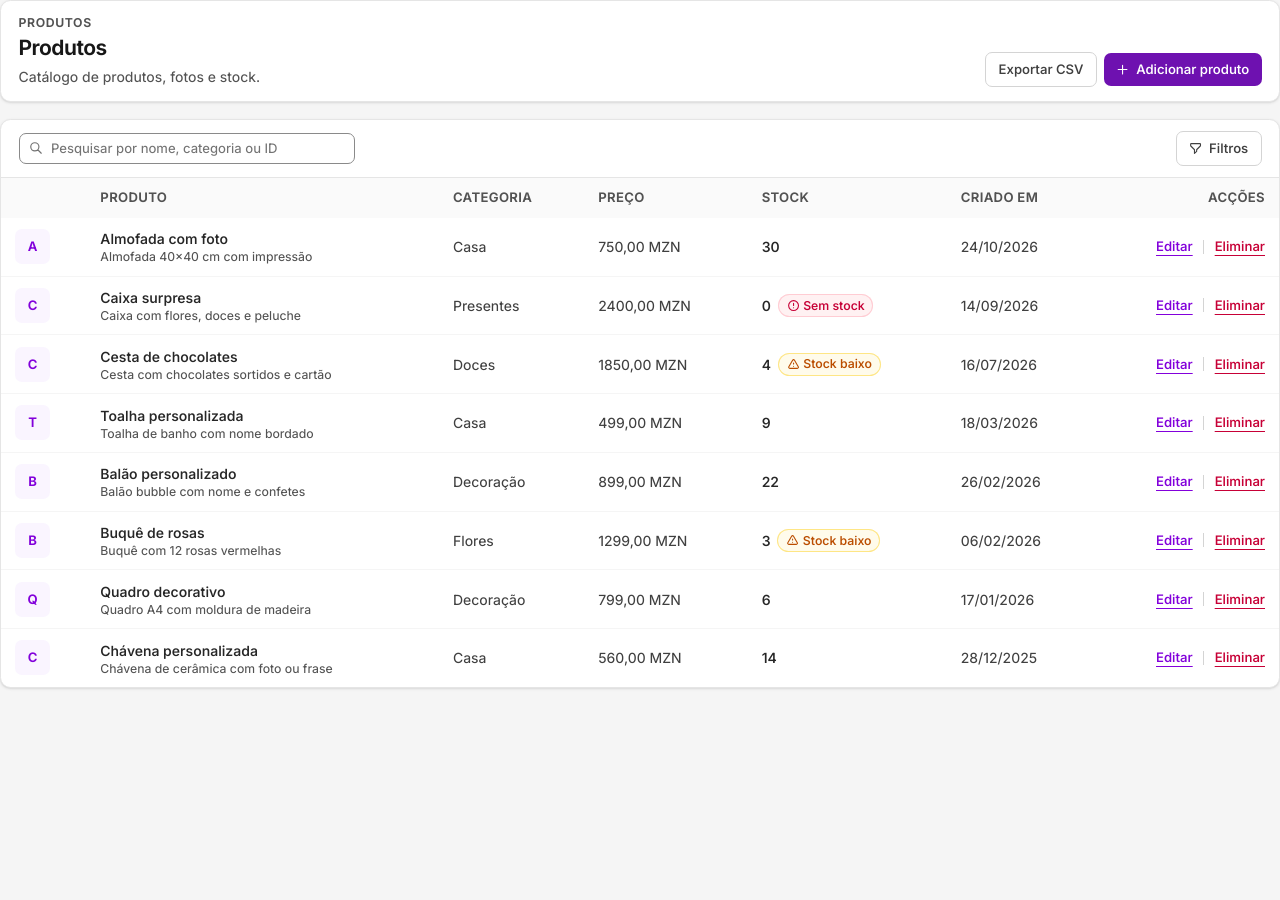
it: produtos › a pré-visualização acompanha o que se escreve
Expected: the text "Chávena personalizada" is shown, x1=100 y1=642 x2=258 y2=658
Click the button "Adicionar produto".
click(1183, 69)  # box x1=1104 y1=52 x2=1262 y2=86
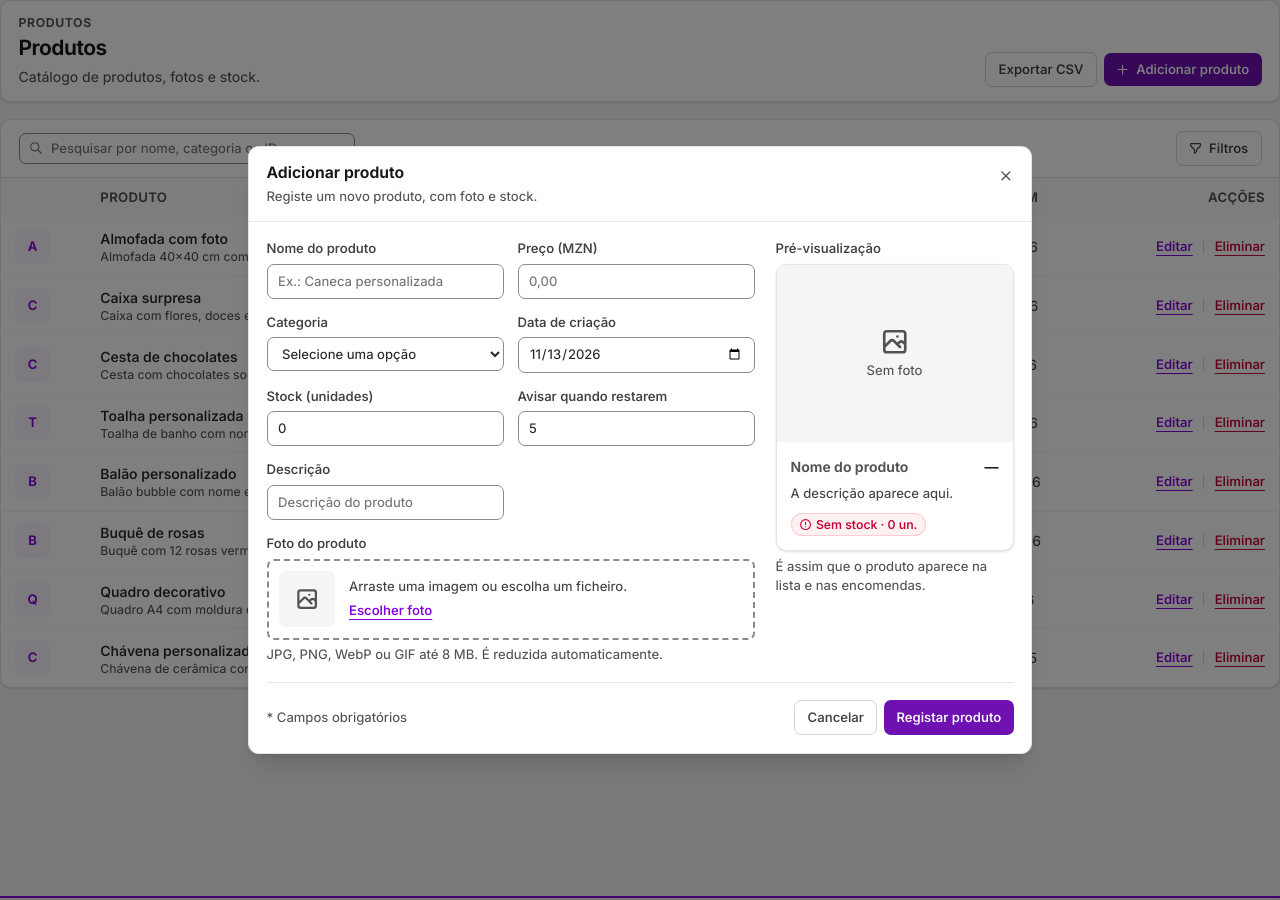
Expected: the heading "Nome do produto" is shown, x1=790 y1=456 x2=908 y2=477
Type "Quadro novo" into the field labelled "Nome do produto".
click(385, 281); type("Quadro novo")  # box x1=266 y1=264 x2=504 y2=299
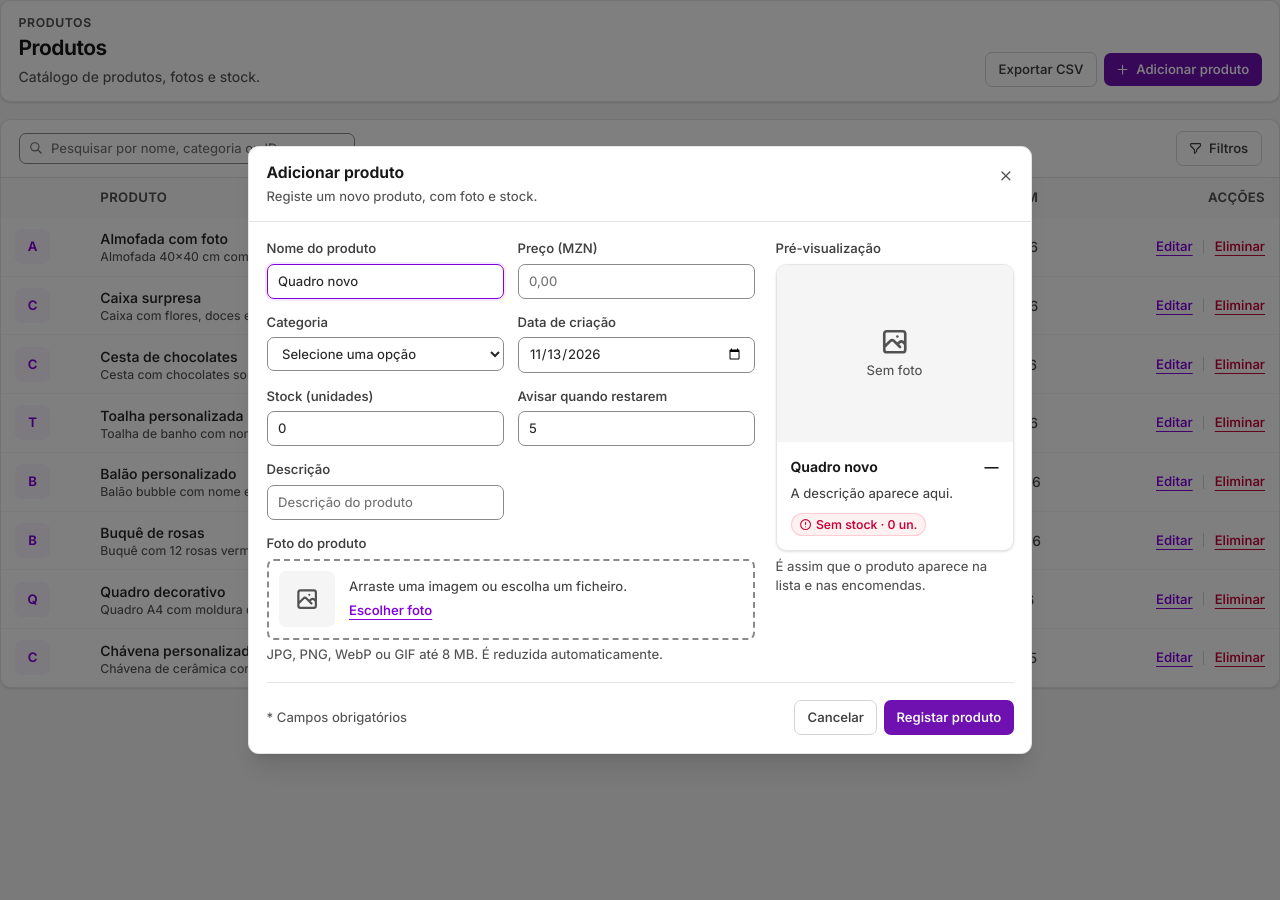
Expected: the heading "Quadro novo" is shown, x1=790 y1=456 x2=878 y2=477
